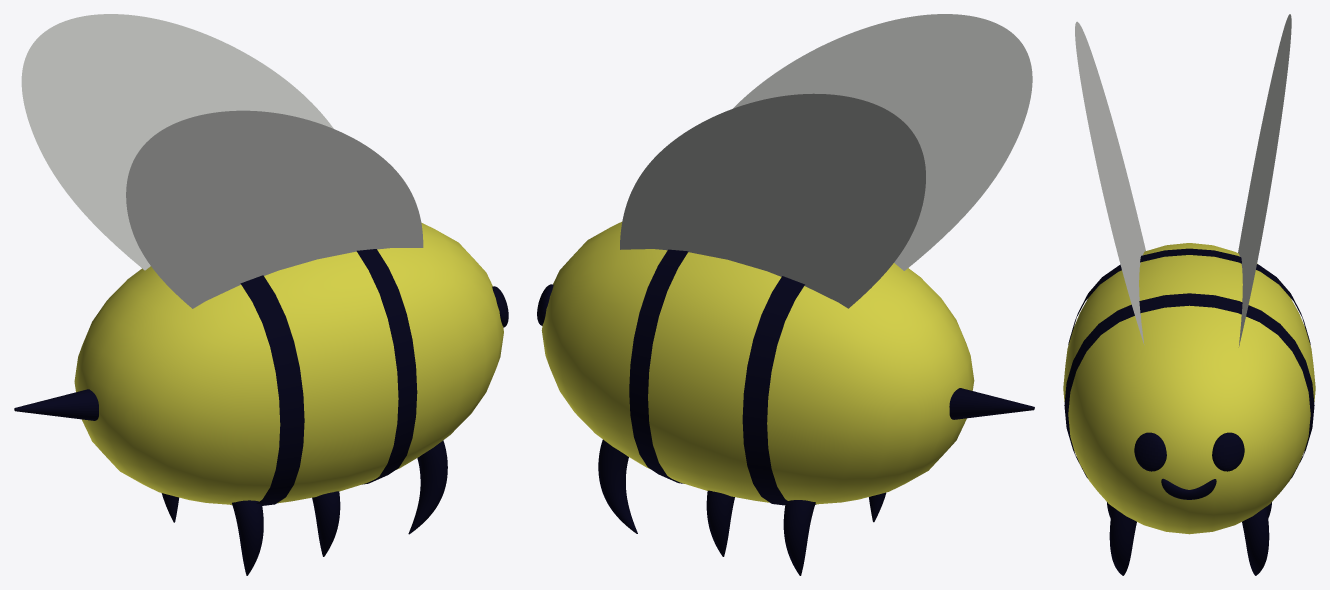
Rendered from breezy.glb.
3 views of the same model, side by side, from view 1: azimuth 30°, elevation 25°; view 2: azimuth 150°, elevation 25°; view 3: azimuth 270°, elevation 25° (orthographic). The views are drawn at different scales.
Parts seen in each view (by area): view 1: body, wingL, wingR; view 2: body, wingR, wingL; view 3: body, wingL, wingR.
Boxes of the visible parts, x1=… form: body: x1=14, y1=222, x2=508, y2=575; wingL: x1=126, y1=110, x2=423, y2=308; wingR: x1=21, y1=14, x2=333, y2=270; body: x1=537, y1=222, x2=1034, y2=575; wingR: x1=620, y1=93, x2=925, y2=308; wingL: x1=733, y1=14, x2=1032, y2=270; body: x1=1063, y1=243, x2=1315, y2=575; wingL: x1=1075, y1=21, x2=1145, y2=344; wingR: x1=1238, y1=14, x2=1291, y2=347.
Bounding box in the file's own units: 4.26 × 4.36 × 2.21.
